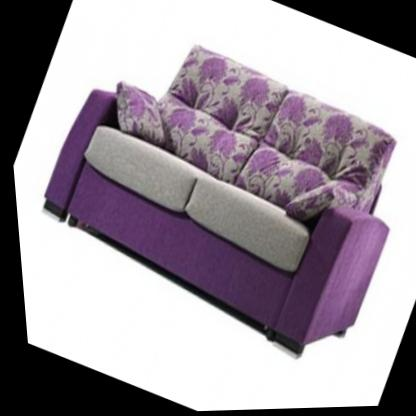Sofa: (1, 4, 416, 386)
